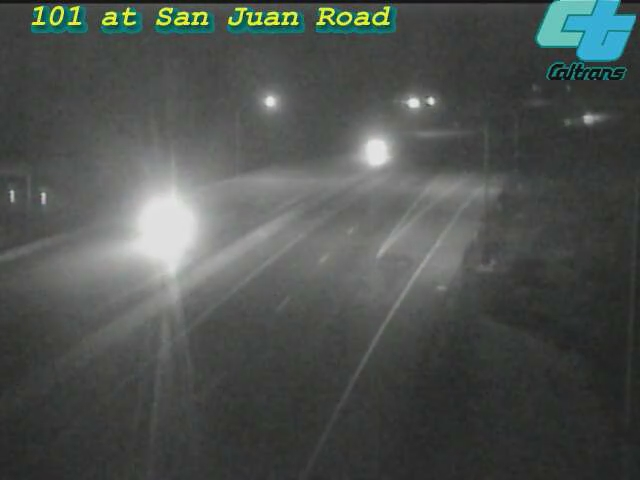vehicle: (121, 187, 201, 267), (334, 111, 414, 191), (569, 91, 619, 141)
